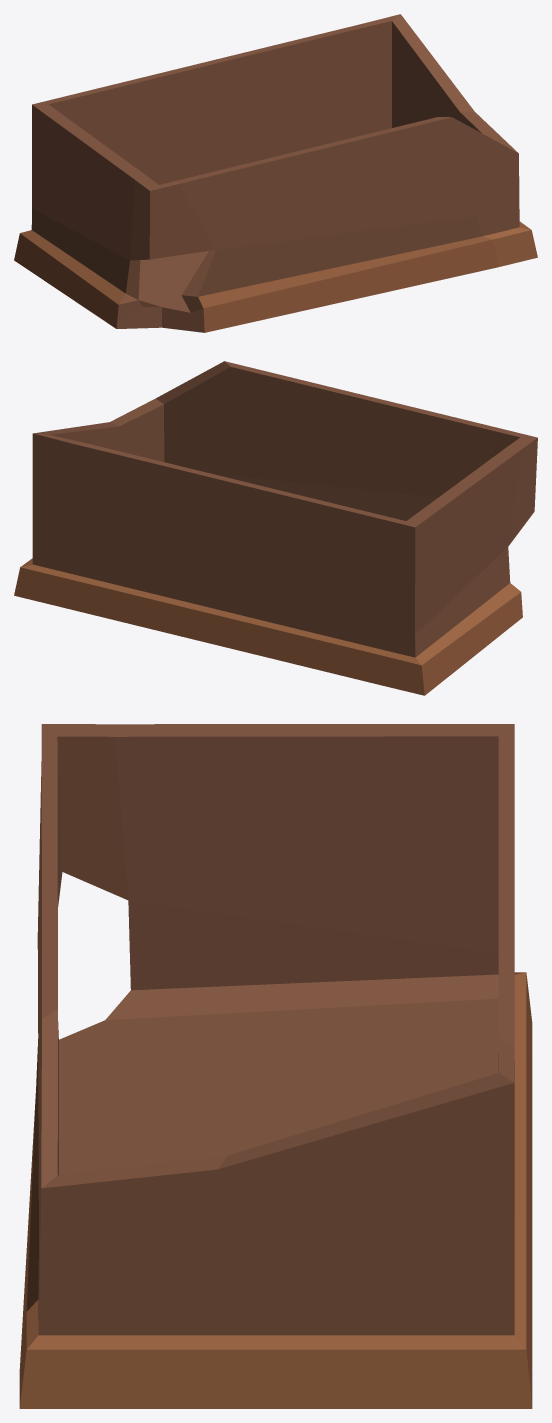
Rendered from Caixa_4_quebrada.fbx.
3 views of the same model, one above another, from view 1: azimuth 30°, elevation 25°; view 2: azimuth 150°, elevation 25°; view 3: azimuth 270°, elevation 25° (orthographic). The views are drawn at different scales.
Visible parts, largest first — view 1: Caixa_4_quebrada; view 2: Caixa_4_quebrada; view 3: Caixa_4_quebrada.
Part boxes in pixels (x1,y1,x2,y2): Caixa_4_quebrada: (14,14,537,332); Caixa_4_quebrada: (14,361,537,695); Caixa_4_quebrada: (19,724,532,1408).
Bounding box in the file's own units: 0.8012 × 1.43 × 0.5397.
